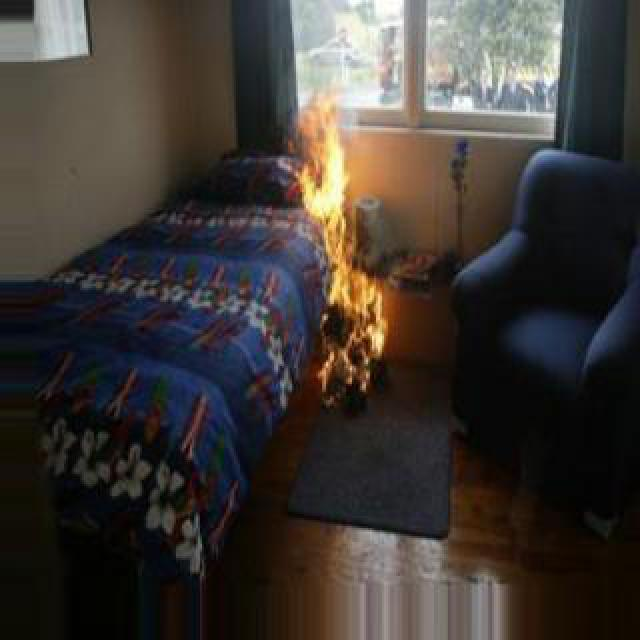Fire: (302, 98, 384, 390)
